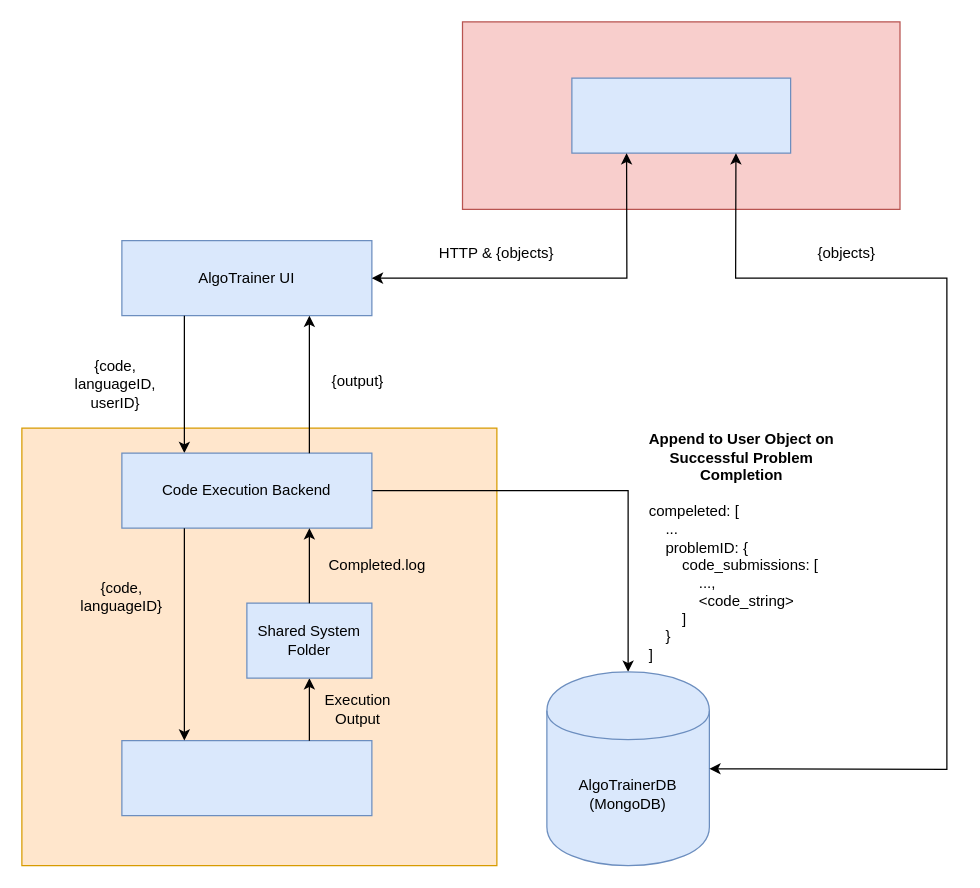
Image size: 980x888. Some labels were removed from this diagram. Each missing label, with the centre of its shape:
Docker: the point at 246,777
User Auth Backend: the point at 681,115
